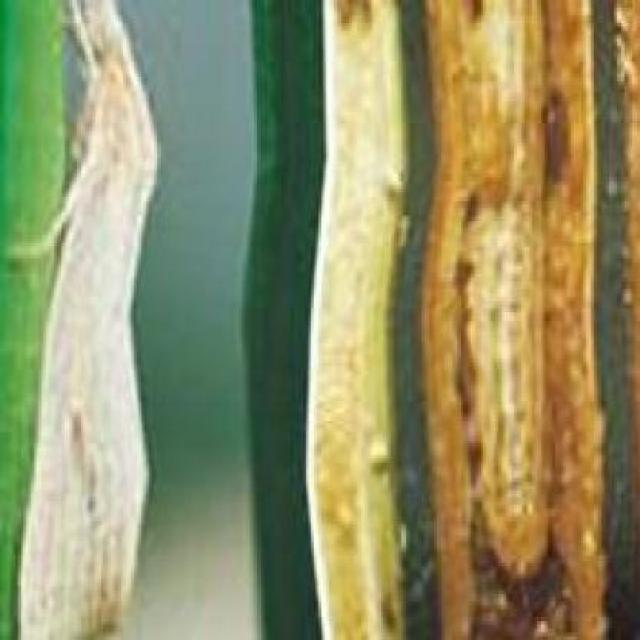stem-borer: (0, 0, 165, 640)
